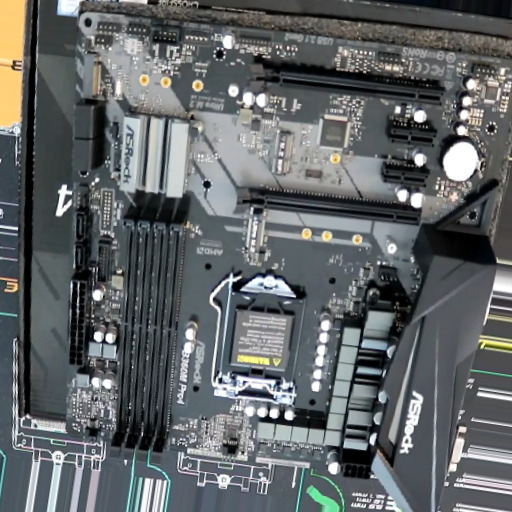CPU: (211, 273, 306, 405)
GPU: (250, 63, 446, 105), (234, 186, 420, 225)
MOTHERBOARD: (67, 13, 512, 476)
RAM: (111, 218, 172, 465)
SSD: (81, 53, 100, 98), (246, 217, 265, 256), (273, 131, 290, 174)
